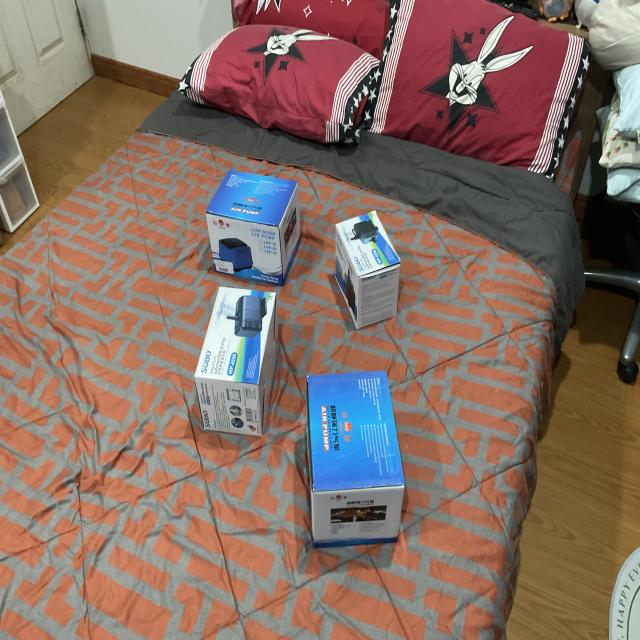SOBO_WP_4200: (192, 286, 290, 443), (332, 214, 410, 338)
YAMANO_LPP_20: (300, 368, 417, 554), (202, 155, 314, 288)
